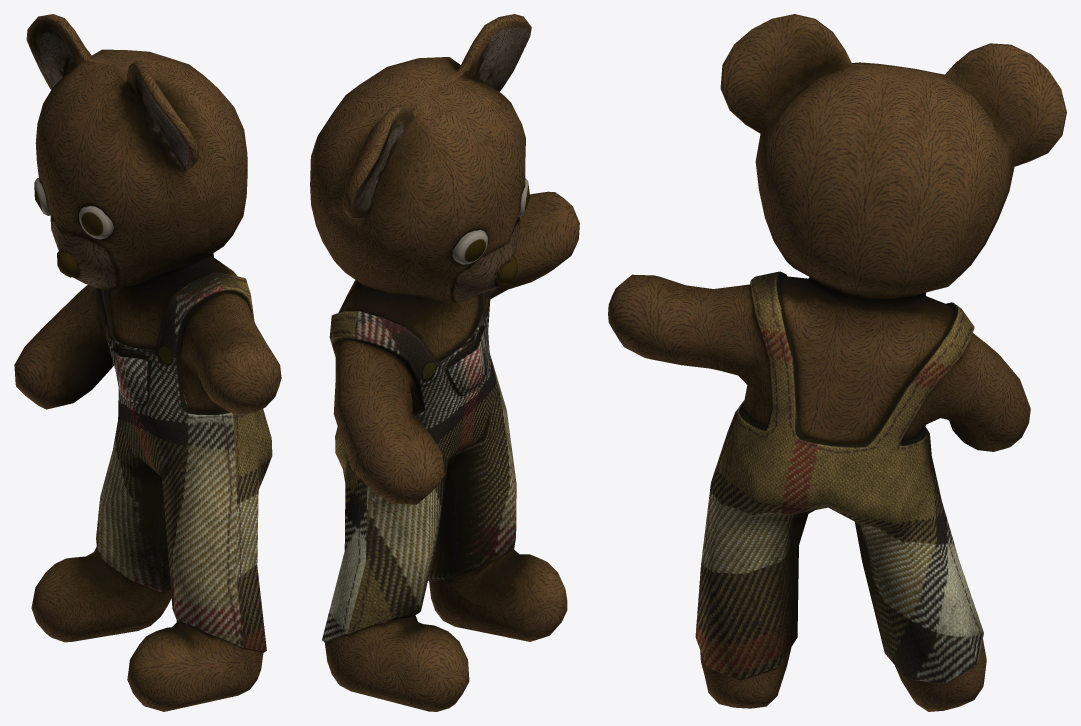
Rendered from SM_Stuffed_Toys_4.fbx.
3 renders of one model, left to right at view 1: azimuth 30°, elevation 25°; view 2: azimuth 150°, elevation 25°; view 3: azimuth 270°, elevation 25°, orthographic. The views are drawn at different scales.
Visible parts, largest first — view 1: SM_Stuffed_Toys_4; view 2: SM_Stuffed_Toys_4; view 3: SM_Stuffed_Toys_4.
Boxes of the visible parts, x1,y1,x2,y2 form: SM_Stuffed_Toys_4: (14,14,281,711); SM_Stuffed_Toys_4: (310,14,579,711); SM_Stuffed_Toys_4: (608,14,1066,711).
Size of the model in its own units: 9.81 by 20.62 by 32.78.
1 material, 1 textured.
